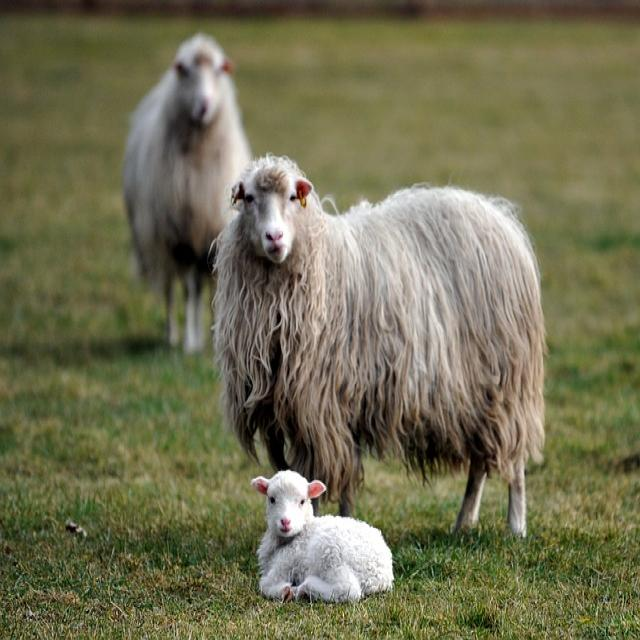goat: (214, 155, 545, 535), (122, 33, 251, 352), (251, 470, 392, 601)
